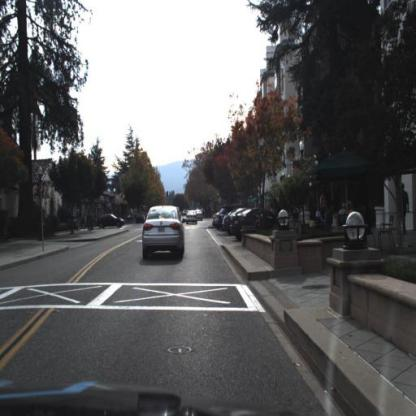car: (140, 204, 185, 266), (231, 208, 277, 241), (94, 212, 128, 233), (181, 206, 200, 230), (186, 208, 199, 226)
pedestrian: (315, 206, 323, 229), (332, 211, 340, 232), (75, 208, 81, 234)
